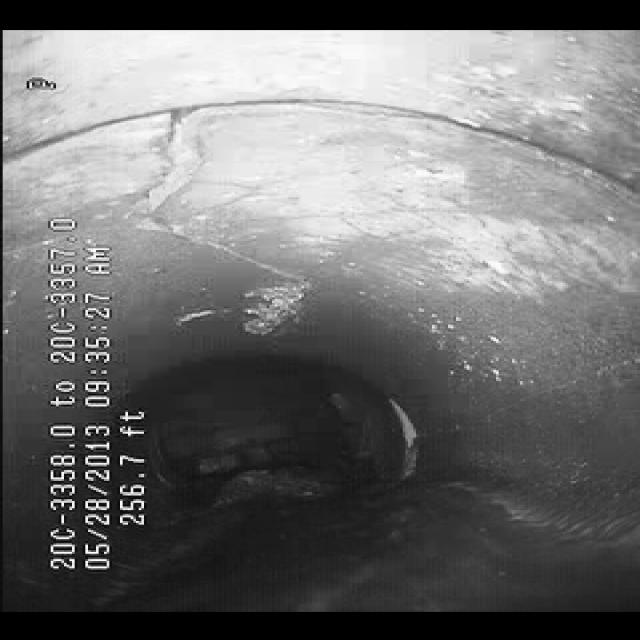Fracture: (112, 94, 350, 276)
